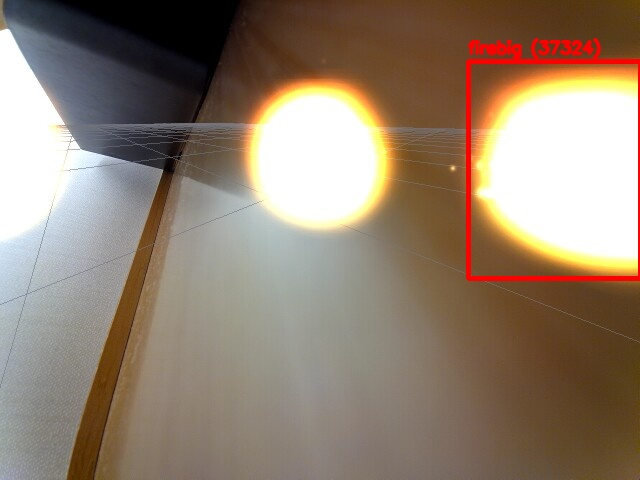firebig: (468, 61, 640, 278)
